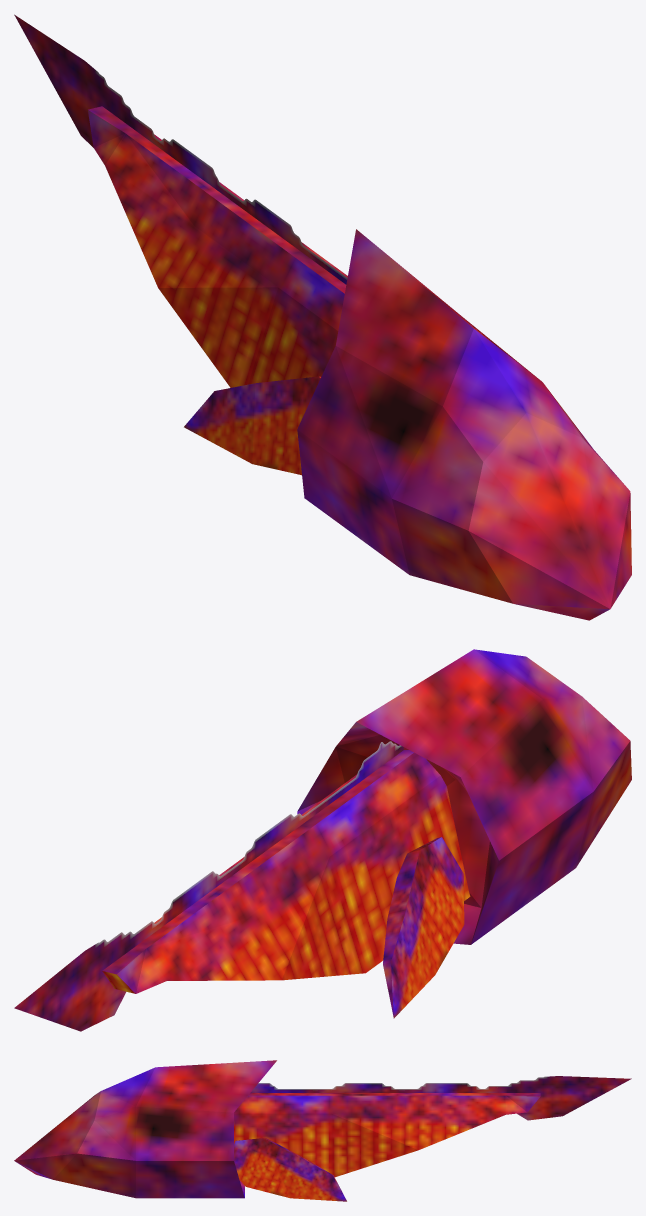
File: cephignis.obj
3 views of the same model, one above another, from view 1: azimuth 30°, elevation 25°; view 2: azimuth 150°, elevation 25°; view 3: azimuth 270°, elevation 25° (orthographic). The views are drawn at different scales.
Visible parts, largest first — view 1: Head, Body, ArmRight; view 2: Body, Head, ArmRight; view 3: Head, Body, ArmLeft.
Part boxes in pixels (x1=…): Head: x1=297, y1=229, x2=631, y2=620; Body: x1=14, y1=14, x2=347, y2=387; ArmRight: x1=184, y1=376, x2=320, y2=475; Body: x1=14, y1=741, x2=470, y2=1031; Head: x1=297, y1=649, x2=631, y2=944; ArmRight: x1=383, y1=837, x2=464, y2=1018; Head: x1=14, y1=1060, x2=276, y2=1198; Body: x1=234, y1=1076, x2=631, y2=1177; ArmLeft: x1=234, y1=1138, x2=346, y2=1201.
Bounding box in the file's own units: 0.8084 × 0.88 × 3.97.
